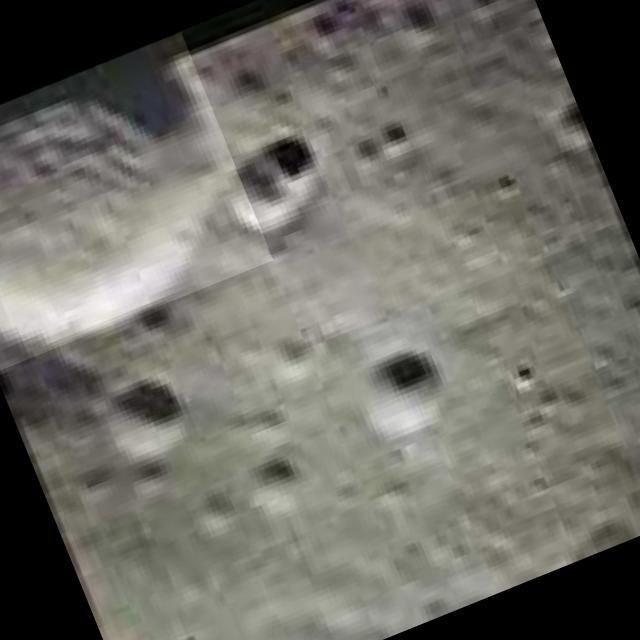crater: (0, 32, 275, 372), (206, 128, 330, 238), (357, 341, 461, 440), (96, 374, 196, 468)
